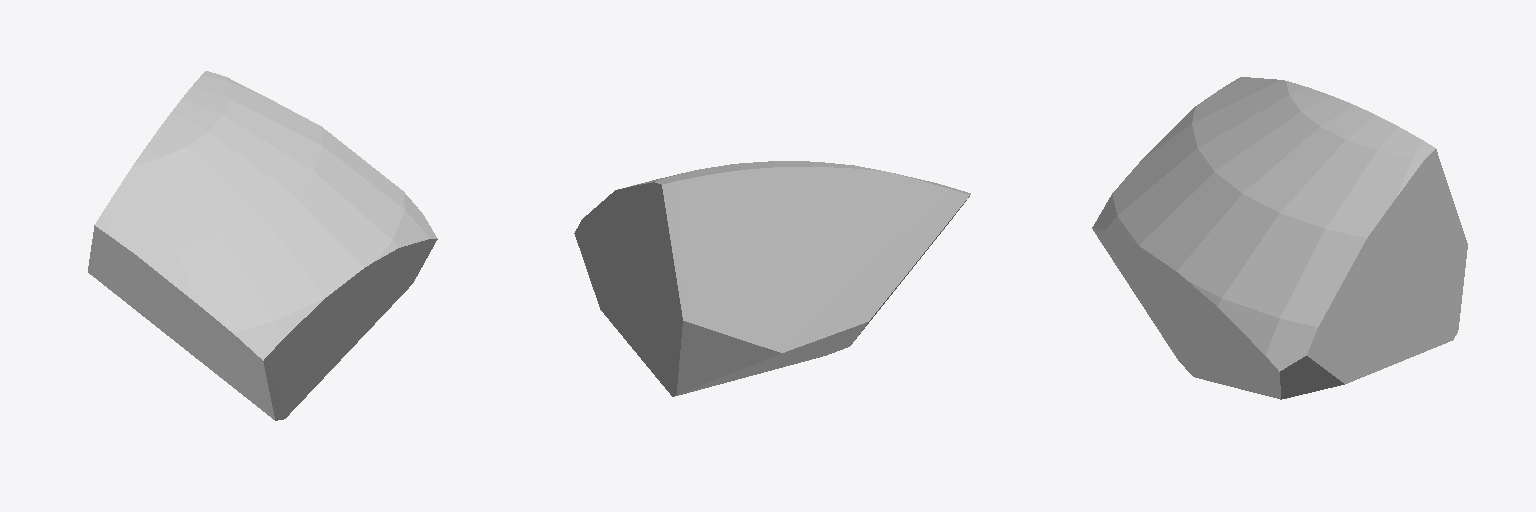
The model's file is Sphere_Cell_Fracture56.obj.
3 views of the same model, side by side, from view 1: azimuth 30°, elevation 25°; view 2: azimuth 150°, elevation 25°; view 3: azimuth 270°, elevation 25° (orthographic).
Bounding box in the file's own units: 0.7762 × 0.523 × 0.6958.